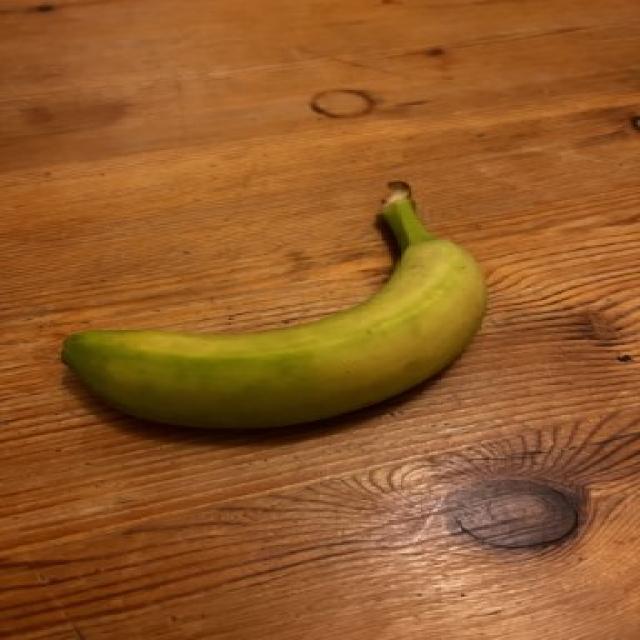Unripe: (44, 164, 514, 454)
